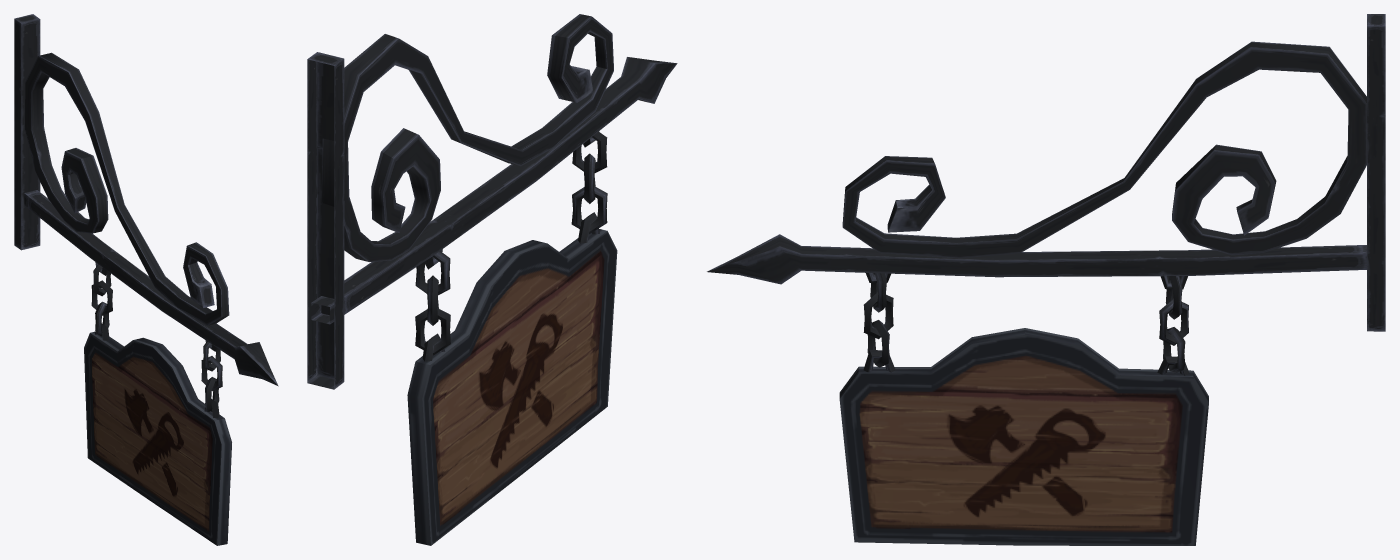
File: SM_PROP_sign_city_03.fbx
3 views of the same model, side by side, from view 1: azimuth 30°, elevation 25°; view 2: azimuth 150°, elevation 25°; view 3: azimuth 270°, elevation 25° (orthographic). The views are drawn at different scales.
Visible parts, largest first — view 1: SM_PROP_sign_city_03; view 2: SM_PROP_sign_city_03; view 3: SM_PROP_sign_city_03.
Part boxes in pixels (x1=…): SM_PROP_sign_city_03: x1=14, y1=14, x2=278, y2=545; SM_PROP_sign_city_03: x1=307, y1=14, x2=677, y2=545; SM_PROP_sign_city_03: x1=707, y1=14, x2=1385, y2=545.
Size of the model in its own units: 8.7 by 153 by 180.
